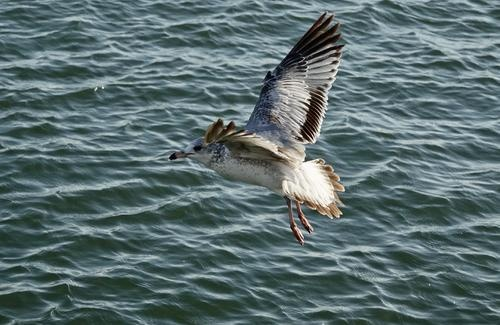bird: (161, 10, 351, 246)
